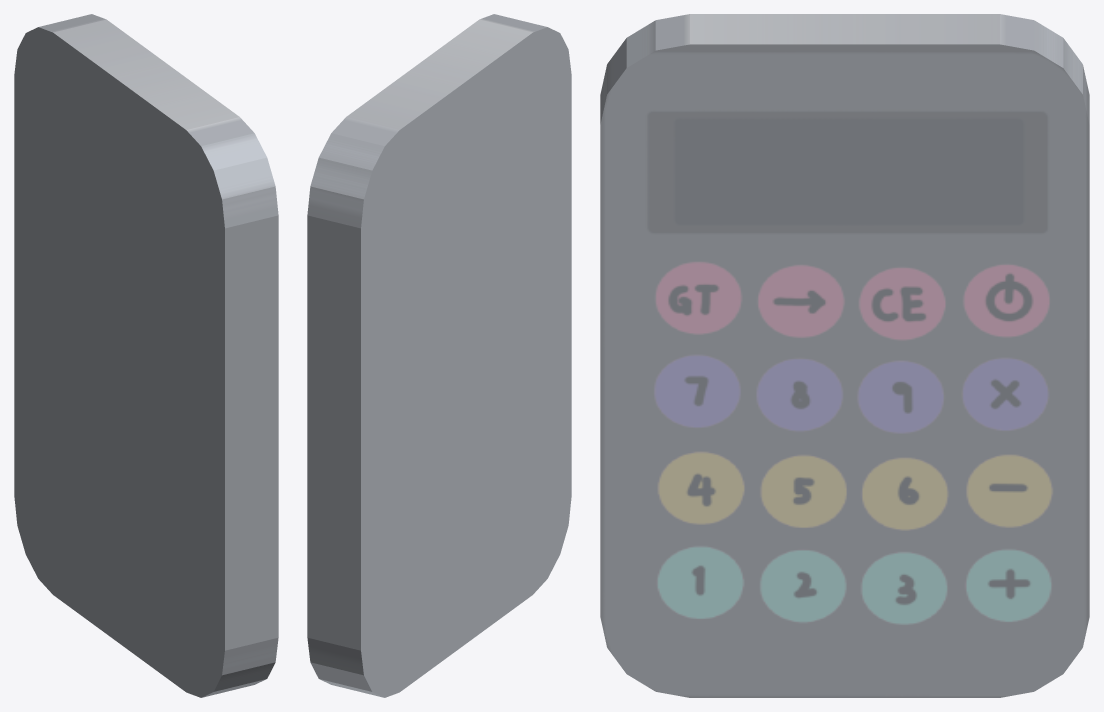
The model's file is calculator.glb.
3 views of the same model, side by side, from view 1: azimuth 30°, elevation 25°; view 2: azimuth 150°, elevation 25°; view 3: azimuth 270°, elevation 25° (orthographic). The views are drawn at different scales.
Visible parts, largest first — view 1: Cube; view 2: Cube; view 3: Cube.
Boxes of the visible parts, x1=… form: Cube: x1=14, y1=14, x2=278, y2=697; Cube: x1=307, y1=14, x2=571, y2=697; Cube: x1=600, y1=14, x2=1089, y2=697.
Size of the model in its own units: 0.668 by 6.69 by 4.54.
1 material, 1 textured.
